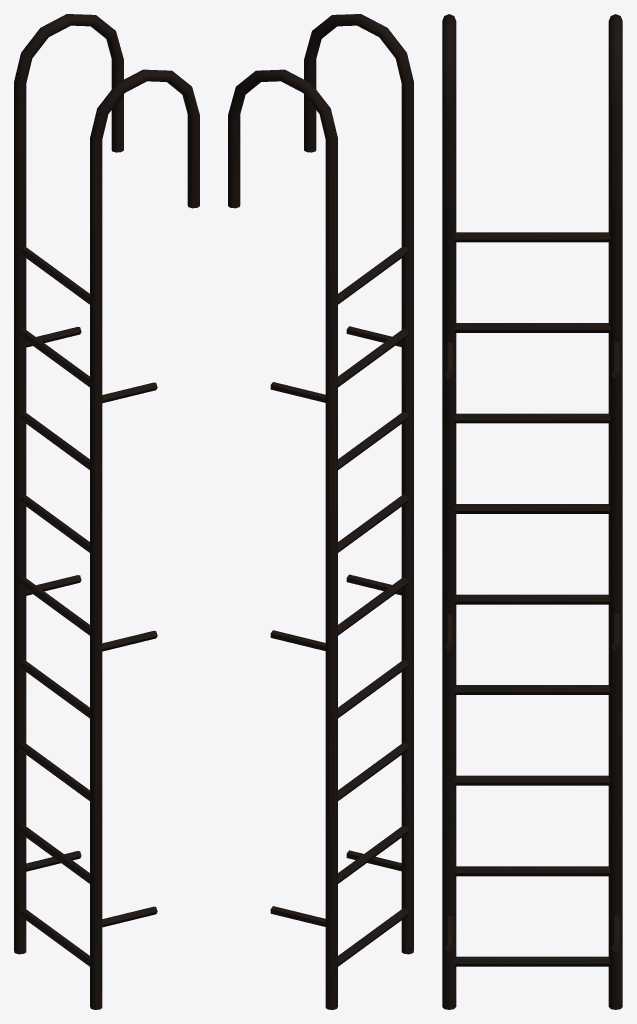
The model's file is SM_Banchina_Scaletta_v2.fbx.
3 views of the same model, side by side, from view 1: azimuth 30°, elevation 25°; view 2: azimuth 150°, elevation 25°; view 3: azimuth 270°, elevation 25° (orthographic). The views are drawn at different scales.
Visible parts, largest first — view 1: SM_Banchina_Scaletta_v2; view 2: SM_Banchina_Scaletta_v2; view 3: SM_Banchina_Scaletta_v2.
Boxes of the visible parts, x1,y1,x2,y2 form: SM_Banchina_Scaletta_v2: (14,14,199,1009); SM_Banchina_Scaletta_v2: (228,14,413,1009); SM_Banchina_Scaletta_v2: (442,14,622,1009).
Size of what is drawn, in the model's own units: 41.2 by 54.2 by 336.
Materials: 1 (1 with a texture image).
